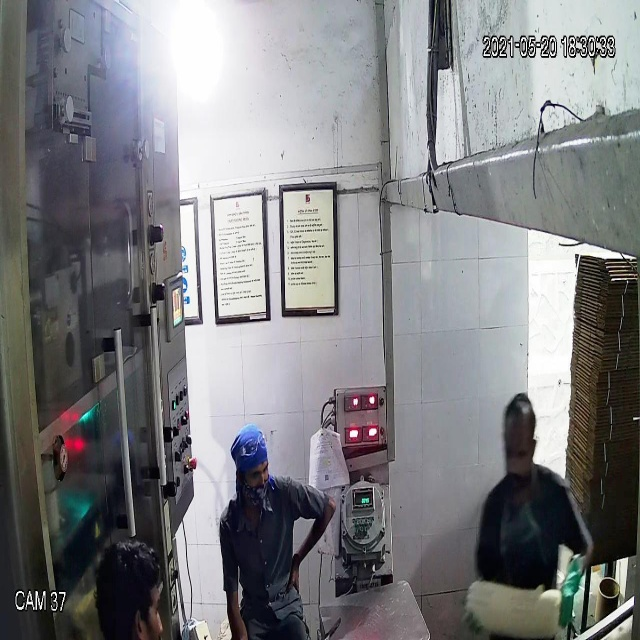Sin_gafas: (234, 460, 271, 491)
